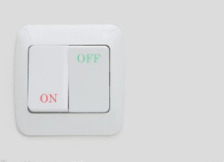switch: (31, 51, 65, 85), (71, 54, 105, 88)
